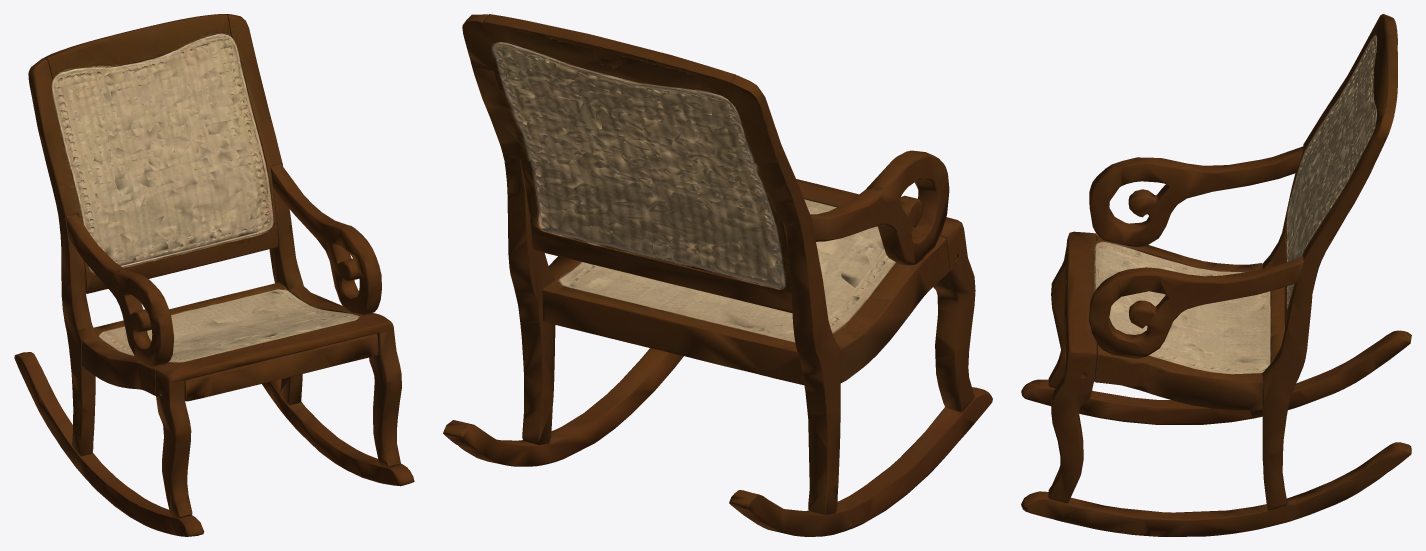
Rendered from rocker.lo.glb.
3 renders of one model, left to right at view 1: azimuth 30°, elevation 25°; view 2: azimuth 150°, elevation 25°; view 3: azimuth 270°, elevation 25°, orthographic. The views are drawn at different scales.
Parts seen in each view (by area): view 1: model; view 2: model; view 3: model.
Part boxes in pixels (x1,y1,x2,y2): model: [14, 14, 414, 536]; model: [443, 14, 992, 536]; model: [1021, 14, 1411, 536].
Size of the model in its own units: 1.18 by 1.9 by 1.6.
1 material, 1 textured.
